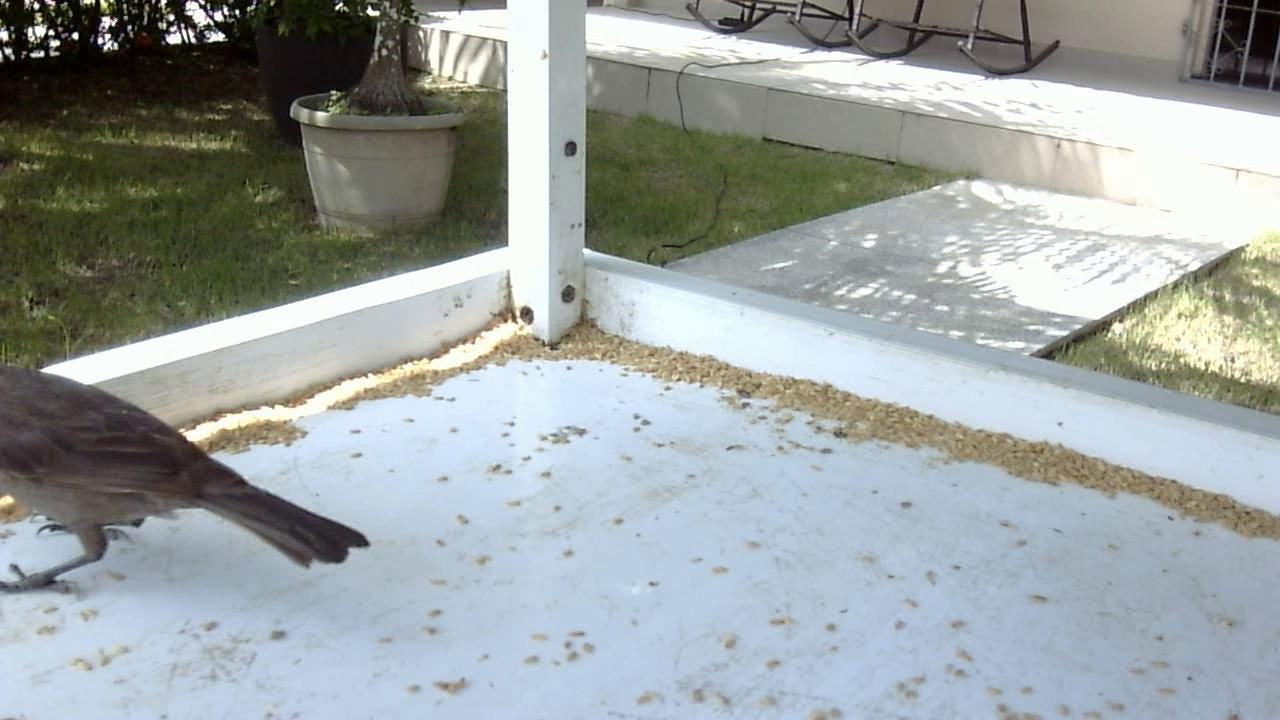chupim: (1, 348, 379, 603)
